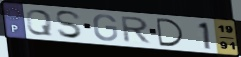1: (196, 21, 213, 51)
D: (154, 17, 186, 48)
G: (92, 13, 120, 43)
Q: (24, 9, 54, 37)
R: (120, 15, 153, 45)
S: (53, 10, 84, 40)
